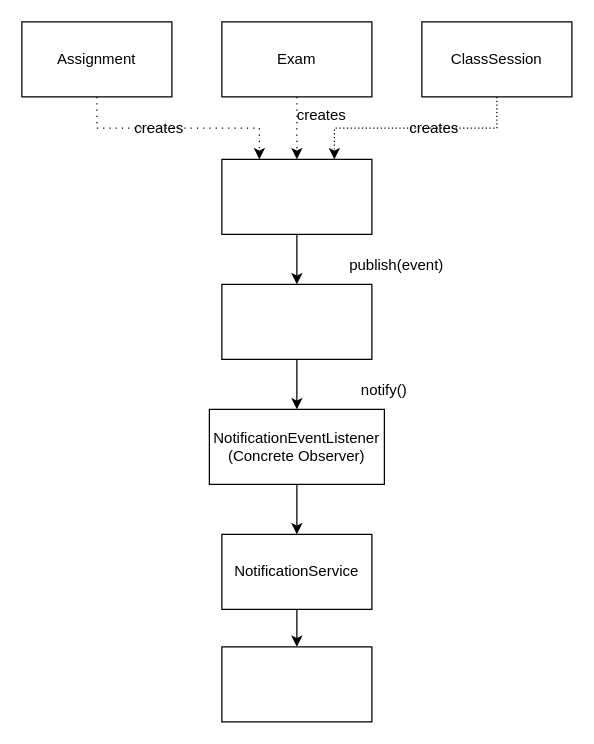
Image size: 594x744. Some labels were removed from this diagram. Here are the shapes that lost their labels. From the top down, the box of each, then its label:
(221, 158, 372, 234): DomainEvent
(221, 283, 372, 359): EventPublisher (subject)
(221, 646, 372, 722): Notification
